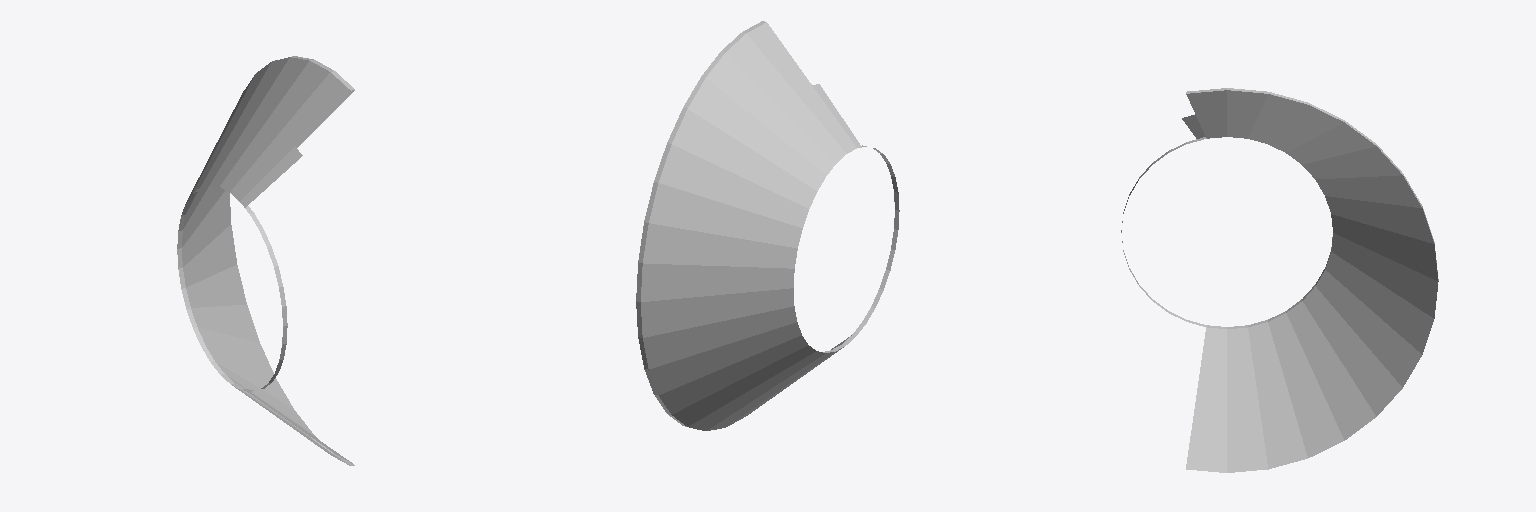
File: RHDriveSide.obj
3 views of the same model, side by side, from view 1: azimuth 30°, elevation 25°; view 2: azimuth 150°, elevation 25°; view 3: azimuth 270°, elevation 25° (orthographic).
Parts seen in each view (by area): view 1: RHDriveSide; view 2: RHDriveSide; view 3: RHDriveSide.
Boxes of the visible parts, x1=… form: RHDriveSide: x1=177, y1=56, x2=354, y2=465; RHDriveSide: x1=636, y1=21, x2=899, y2=430; RHDriveSide: x1=1121, y1=88, x2=1438, y2=472.
Size of the model in its own units: 0.019 by 0.066 by 0.0495.